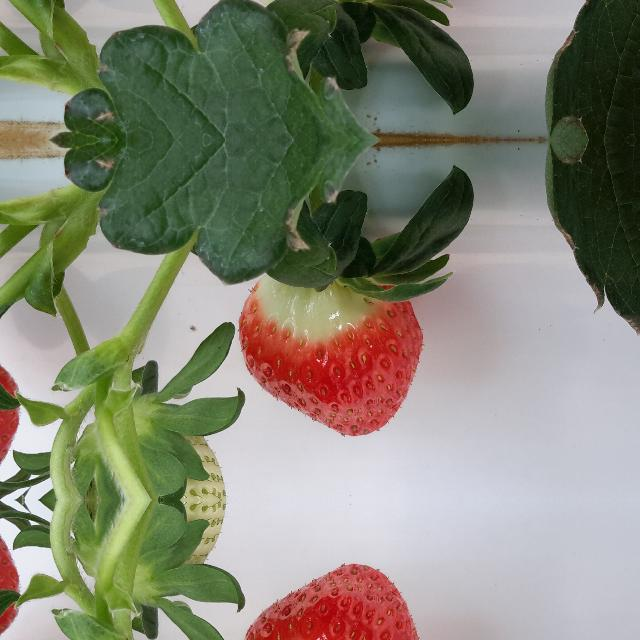Health_100: (238, 276, 424, 437), (237, 563, 424, 640)
